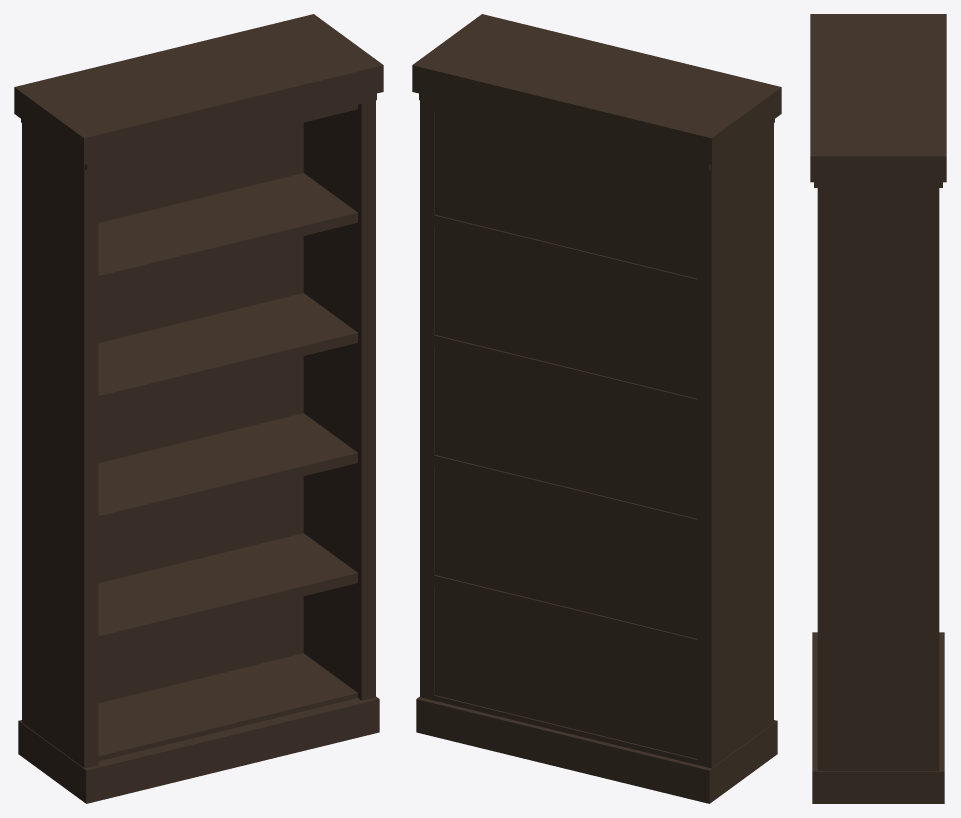
File: SM_Furniture_Bookshelf_01.glb
3 views of the same model, side by side, from view 1: azimuth 30°, elevation 25°; view 2: azimuth 150°, elevation 25°; view 3: azimuth 270°, elevation 25° (orthographic). The views are drawn at different scales.
Visible parts, largest first — view 1: SM_Furniture_Bookshelf_01; view 2: SM_Furniture_Bookshelf_01; view 3: SM_Furniture_Bookshelf_01.
Part boxes in pixels (bbox=[...]): SM_Furniture_Bookshelf_01: bbox=[14, 14, 383, 803]; SM_Furniture_Bookshelf_01: bbox=[412, 14, 781, 803]; SM_Furniture_Bookshelf_01: bbox=[810, 14, 946, 803].
Bounding box in the file's own units: 0.94 × 2 × 0.38.
